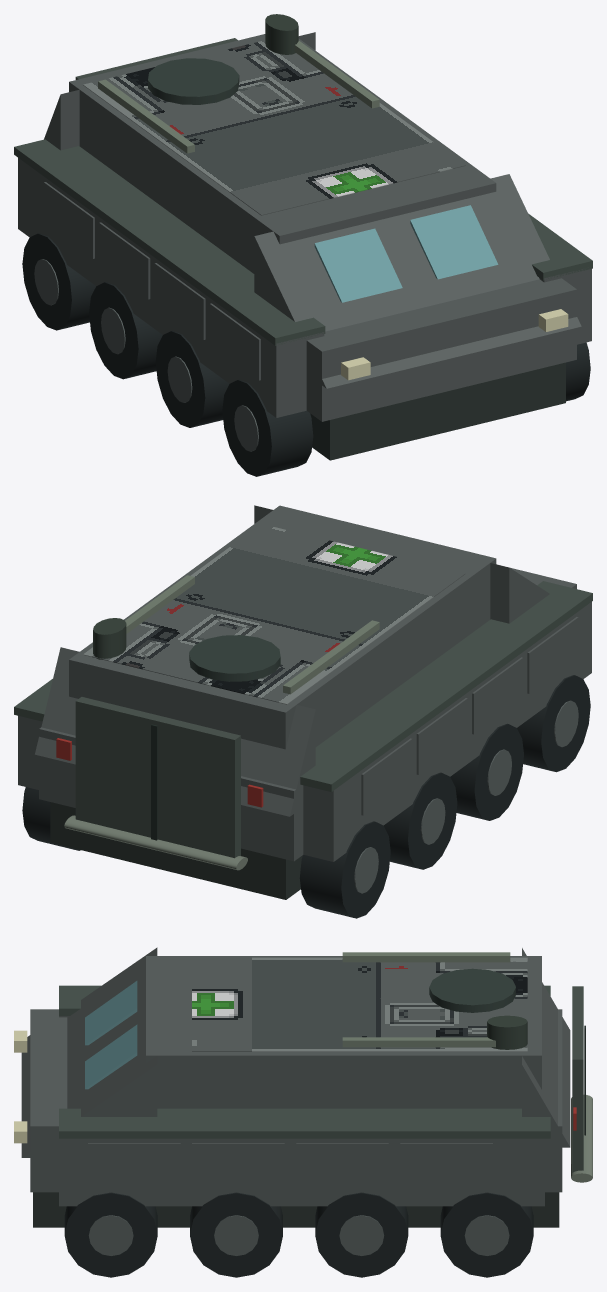
Rendered from CMU3DReduxVehicleAPCMed.glb.
The picture shows the model from 3 angles, top to bottom: view 1: azimuth 30°, elevation 25°; view 2: azimuth 150°, elevation 25°; view 3: azimuth 270°, elevation 25°; orthographic projection. The views are drawn at different scales.
Visible parts, largest first — view 1: source compartment roof, upper troop compartment, sloped front armor, lower personnel hull, rubber road tire (×5), upper fender (×2), side sponson (×2), sealed armored belly, side armor plate (×4), driver vision glass (×2), rear service hatch, recessed metal wheel hub (×4) (+4 smaller); view 2: source compartment roof, upper troop compartment, rear access ramp, rubber road tire (×5), upper fender (×2), side sponson (×2), side armor plate (×4), rear sloped armor, sealed armored belly, lower personnel hull, rear service hatch, recessed metal wheel hub (×4) (+5 smaller); view 3: upper troop compartment, source compartment roof, rubber road tire (×4), side sponson, upper fender (×2), side armor plate (×4), sloped front armor, lower personnel hull, recessed metal wheel hub (×4), rear sloped armor, sealed armored belly, roof handrail (×2) (+5 smaller).
Part boxes in pixels (x1,y1,x2,y2): source compartment roof: (83, 40, 465, 215); upper troop compartment: (69, 34, 496, 273); sloped front armor: (254, 174, 581, 388); lower personnel hull: (306, 278, 576, 421); rubber road tire (×5): (22, 233, 590, 476); upper fender (×2): (14, 139, 592, 345); side sponson (×2): (18, 158, 591, 417); sealed armored belly: (310, 362, 565, 460); side armor plate (×4): (43, 182, 260, 380); driver vision glass (×2): (314, 205, 498, 302); rear service hatch: (148, 58, 239, 104); recessed metal wheel hub (×4): (34, 259, 258, 451); source compartment roof: (83, 524, 465, 704); upper troop compartment: (69, 505, 496, 749); rear access ramp: (75, 697, 240, 858); rubber road tire (×5): (22, 675, 590, 918); upper fender (×2): (14, 581, 592, 791); side sponson (×2): (18, 602, 591, 861); side armor plate (×4): (361, 617, 578, 815); rear sloped armor: (35, 647, 315, 816); sealed armored belly: (50, 802, 302, 899); lower personnel hull: (39, 567, 576, 861); rear service hatch: (189, 635, 280, 681); recessed metal wheel hub (×4): (354, 700, 578, 893); upper troop compartment: (146, 956, 541, 1108); source compartment roof: (192, 957, 527, 1051); rubber road tire (×4): (64, 1192, 533, 1277); side sponson: (59, 1138, 544, 1206); upper fender (×2): (59, 985, 550, 1138); side armor plate (×4): (88, 1143, 492, 1181); sloped front armor: (21, 947, 157, 1157); lower personnel hull: (30, 1009, 562, 1192); recessed metal wheel hub (×4): (88, 1215, 509, 1255); rear sloped armor: (522, 948, 570, 1147); sealed armored belly: (33, 1192, 559, 1227); roof handrail (×2): (342, 952, 510, 1047).
Bounding box in the file's own units: 2.39 × 1.69 × 3.97.
Materials: 15 (1 with a texture image).
